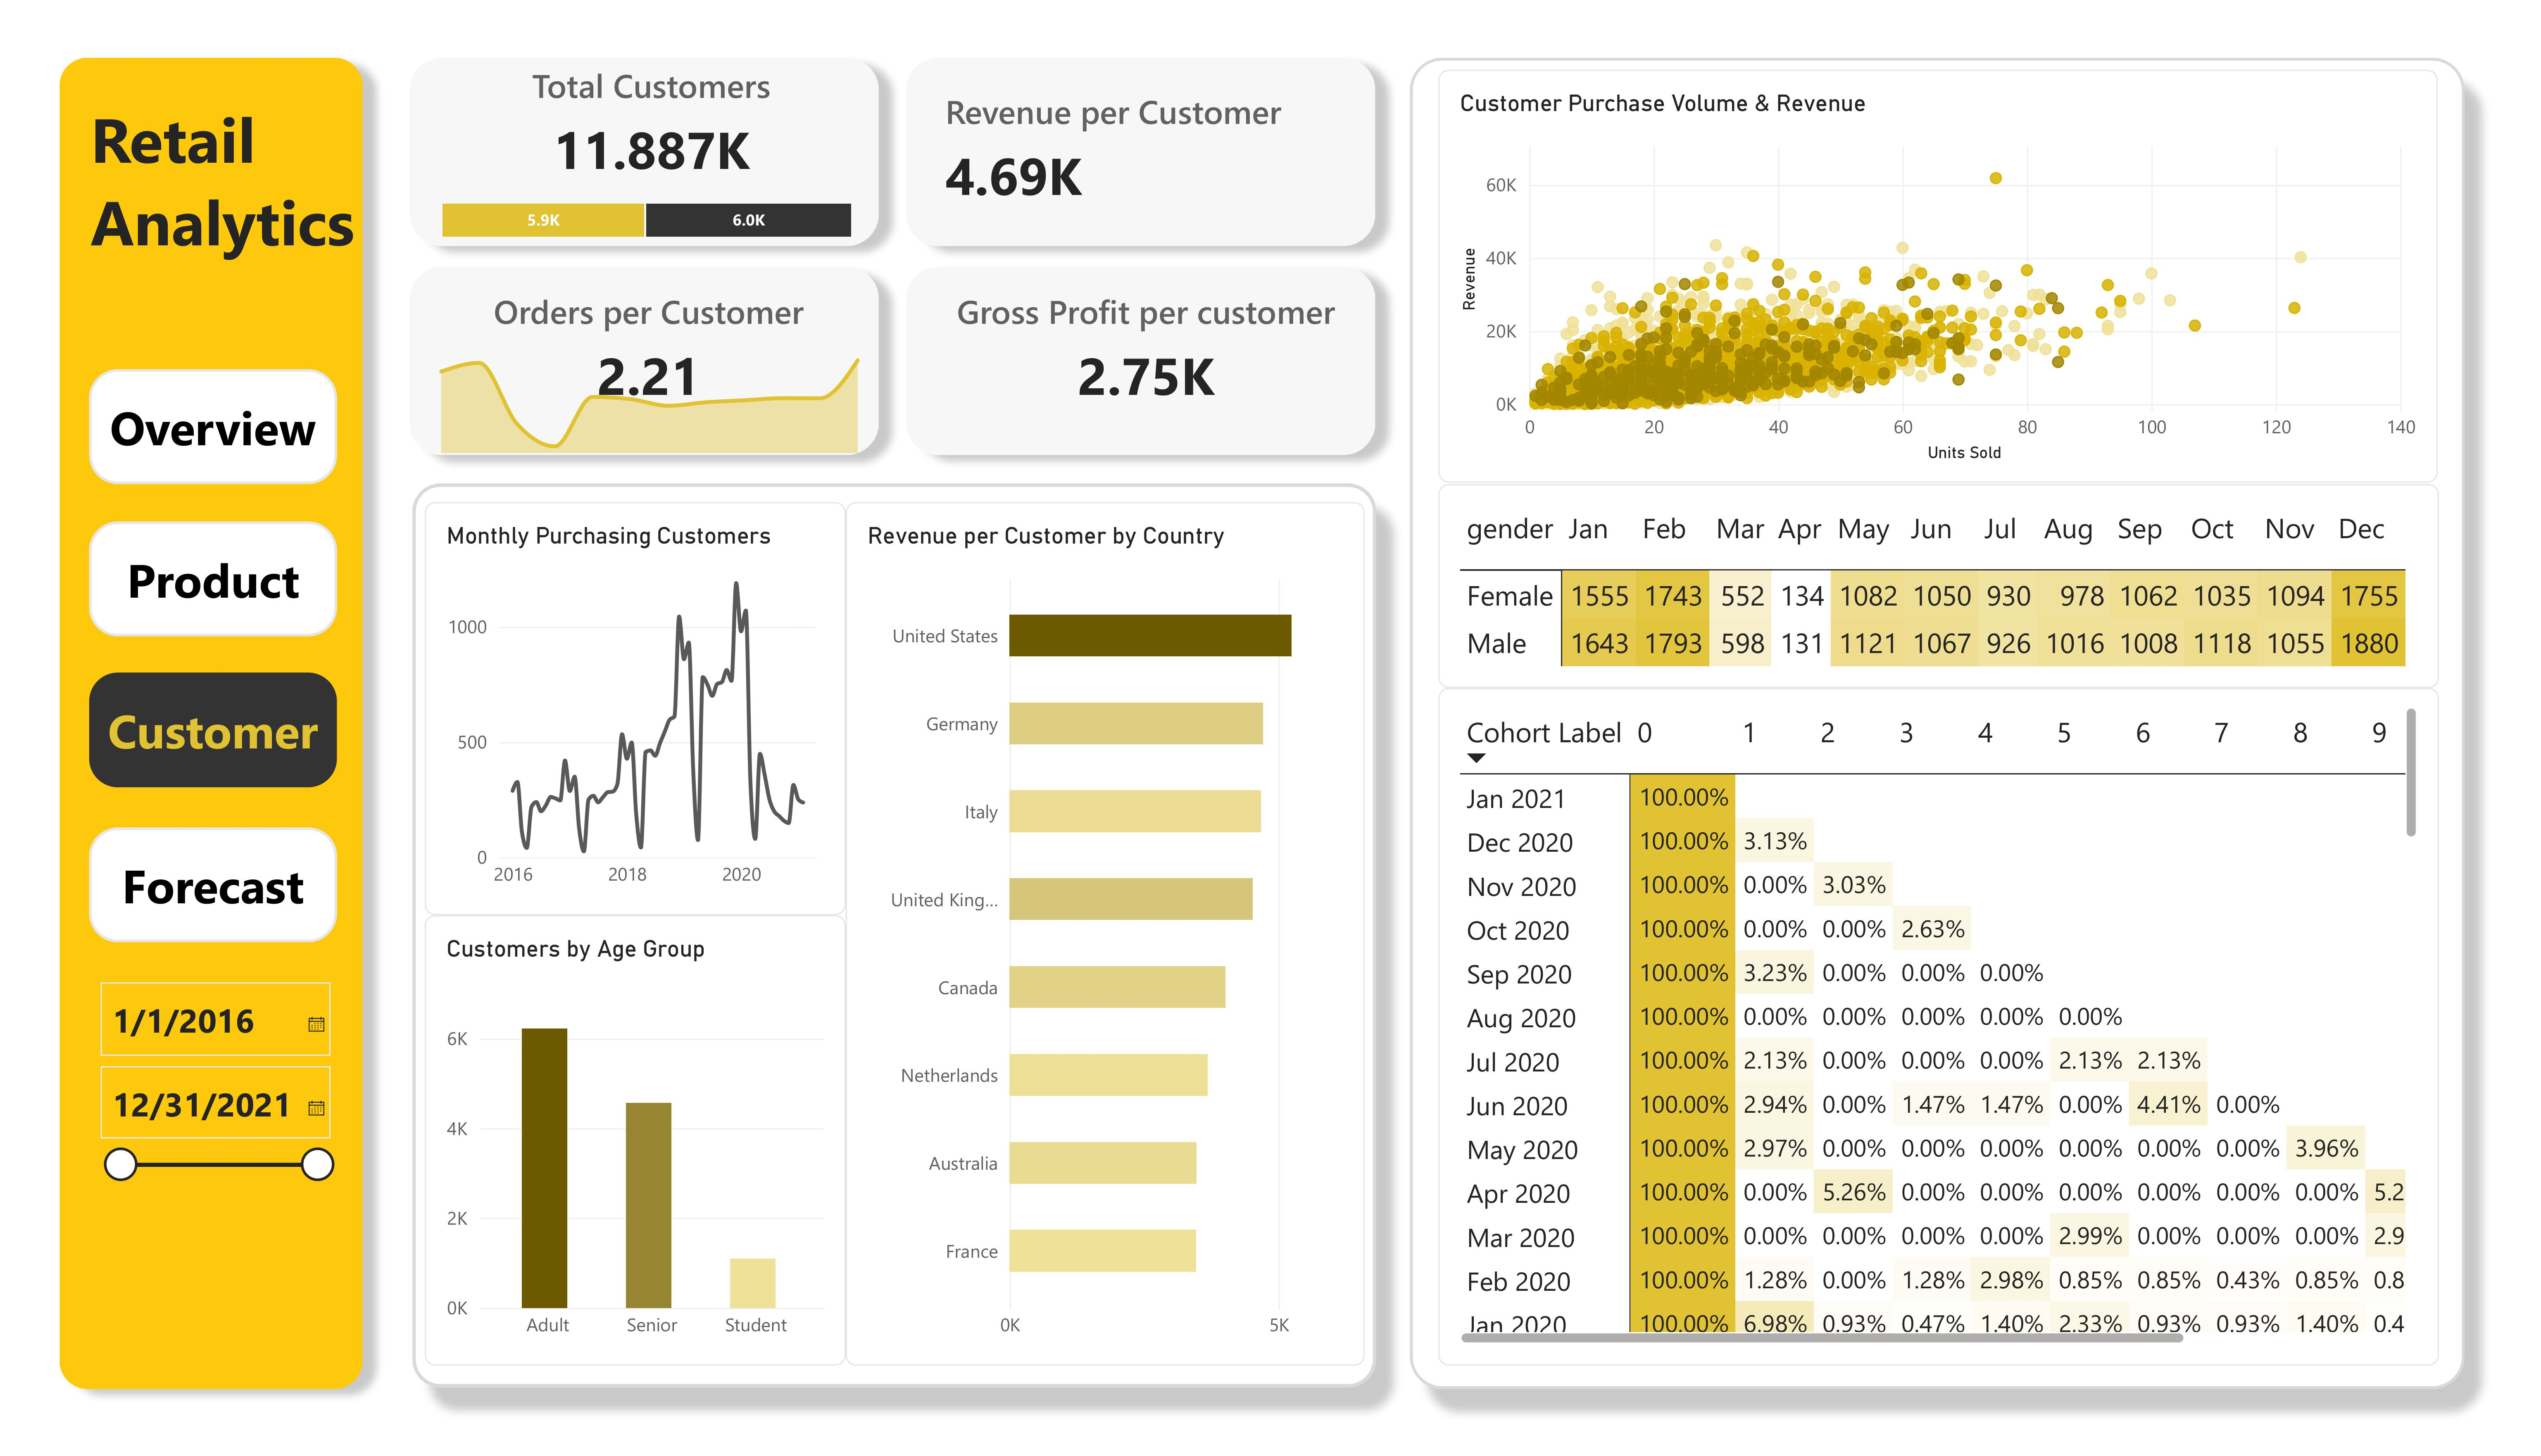

What the dashboard file says about the page in this screenshot:
{"tool":"powerbi","page":{"name":"Customer Analysis","canvas":[1920,1080],"ordinal":2},"visuals":[{"type":"cardVisual","fields":{"Data":["_Measures.Total Customers"]},"box":[319.2,29.7,322.7,83.7],"z":0},{"type":"cardVisual","fields":{"Data":["_Measures.Revenue per Customer"]},"box":[692.1,17.3,341.7,149.2],"z":1000},{"type":"cardVisual","fields":{"Data":["_Measures.Orders per Customer"]},"box":[338.4,186.6,280.8,120.3],"z":2000},{"type":"cardVisual","fields":{"Data":["_Measures.Gross Profit per customer"]},"box":[683.7,186.6,359,118.9],"z":3000},{"type":"clusteredColumnChart","title":"Customers by Age Group","fields":{"Category":["dim_customer.Age Group"],"Y":["_Measures.Total Customers"]},"box":[305.2,685.5,326.2,348.8],"z":4000},{"type":"clusteredBarChart","title":"Revenue per Customer by Country","fields":{"Category":["dim_customer.customer_country"],"Y":["_Measures.Revenue per Customer"]},"box":[631.4,364.5,401.2,669.8],"z":5000},{"type":"lineChart","title":"Monthly Purchasing Customers","fields":{"Category":["DimDate.MonthStart.Variation.Date Hierarchy.Year","DimDate.MonthStart.Variation.Date Hierarchy.Quarter","DimDate.MonthStart.Variation.Date Hierarchy.Month","DimDate.MonthStart.Variation.Date Hierarchy.Day"],"Y":["_Measures.Total Customers"]},"box":[305.2,364.5,326.2,320.9],"z":6000},{"type":"scatterChart","title":"Customer Purchase Volume & Revenue","fields":{"Category":["dim_customer.customer_key"],"Series":["dim_customer.Age Group"],"X":["_Measures.Units Sold"],"Y":["_Measures.Revenue"]},"box":[1090,30,774,320],"z":7000},{"type":"pivotTable","title":"Revenue vs Gross Margin by Subcategory","fields":{"Columns":["DimDate.MonthName"],"Rows":["dim_customer.gender"],"Values":["_Measures.Total Orders"]},"box":[1090.1,350.6,774.4,158.7],"z":8000},{"type":"pivotTable","fields":{"Columns":["Cohort Period.Value"],"Rows":["dim_customer.Cohort Label"],"Values":["_Measures.Customer Retention %"]},"box":[1090.1,509.3,774.4,525],"z":9000},{"type":"slicer","fields":{"Values":["DimDate.Date"]},"box":[46,732,192,170],"z":10000},{"type":"textbox","box":[46,50,214,150],"z":11000},{"type":"shape","title":"Product","box":[45.3,380.2,191.9,89],"z":12000},{"type":"shape","box":[45.3,497.1,191.9,89],"z":13000},{"type":"shape","box":[45.3,261.6,191.9,89],"z":14000},{"type":"shape","box":[45.3,617.4,191.9,89],"z":15000},{"type":"lineChart","fields":{"Category":["DimDate.MonthName"],"Y":["_Measures.Total Orders"]},"box":[289.5,225,378.5,118.6],"z":16000},{"type":"barChart","fields":{"Series":["dim_customer.gender"],"Y":["_Measures.Total Customers"]},"box":[303.5,50.6,350.6,190.1],"z":16001}]}

Visuals, with their boxes on the page's 1920x1080 design canvas (x1, y1, x2, y2). These are canvas units, not pixel positions in the 2541x1456 screenshot, which may show the page scaled, cropped or inside an application window:
cardVisual - _Measures.Total Customers: pyautogui.locateOnScreen(319, 30, 642, 113)
cardVisual - _Measures.Revenue per Customer: pyautogui.locateOnScreen(692, 17, 1034, 166)
cardVisual - _Measures.Orders per Customer: pyautogui.locateOnScreen(338, 187, 619, 307)
cardVisual - _Measures.Gross Profit per customer: pyautogui.locateOnScreen(684, 187, 1043, 306)
"Customers by Age Group" clusteredColumnChart: pyautogui.locateOnScreen(305, 686, 631, 1034)
"Revenue per Customer by Country" clusteredBarChart: pyautogui.locateOnScreen(631, 364, 1033, 1034)
"Monthly Purchasing Customers" lineChart: pyautogui.locateOnScreen(305, 364, 631, 685)
"Customer Purchase Volume & Revenue" scatterChart: pyautogui.locateOnScreen(1090, 30, 1864, 350)
"Revenue vs Gross Margin by Subcategory" pivotTable: pyautogui.locateOnScreen(1090, 351, 1864, 509)
pivotTable - Cohort Period.Value x dim_customer.Cohort Label: pyautogui.locateOnScreen(1090, 509, 1864, 1034)
slicer - DimDate.Date: pyautogui.locateOnScreen(46, 732, 238, 902)
textbox: pyautogui.locateOnScreen(46, 50, 260, 200)
"Product" shape: pyautogui.locateOnScreen(45, 380, 237, 469)
shape: pyautogui.locateOnScreen(45, 497, 237, 586)
shape: pyautogui.locateOnScreen(45, 262, 237, 351)
shape: pyautogui.locateOnScreen(45, 617, 237, 706)
lineChart - DimDate.MonthName x _Measures.Total Orders: pyautogui.locateOnScreen(290, 225, 668, 344)
barChart - dim_customer.gender x _Measures.Total Customers: pyautogui.locateOnScreen(304, 51, 654, 241)
